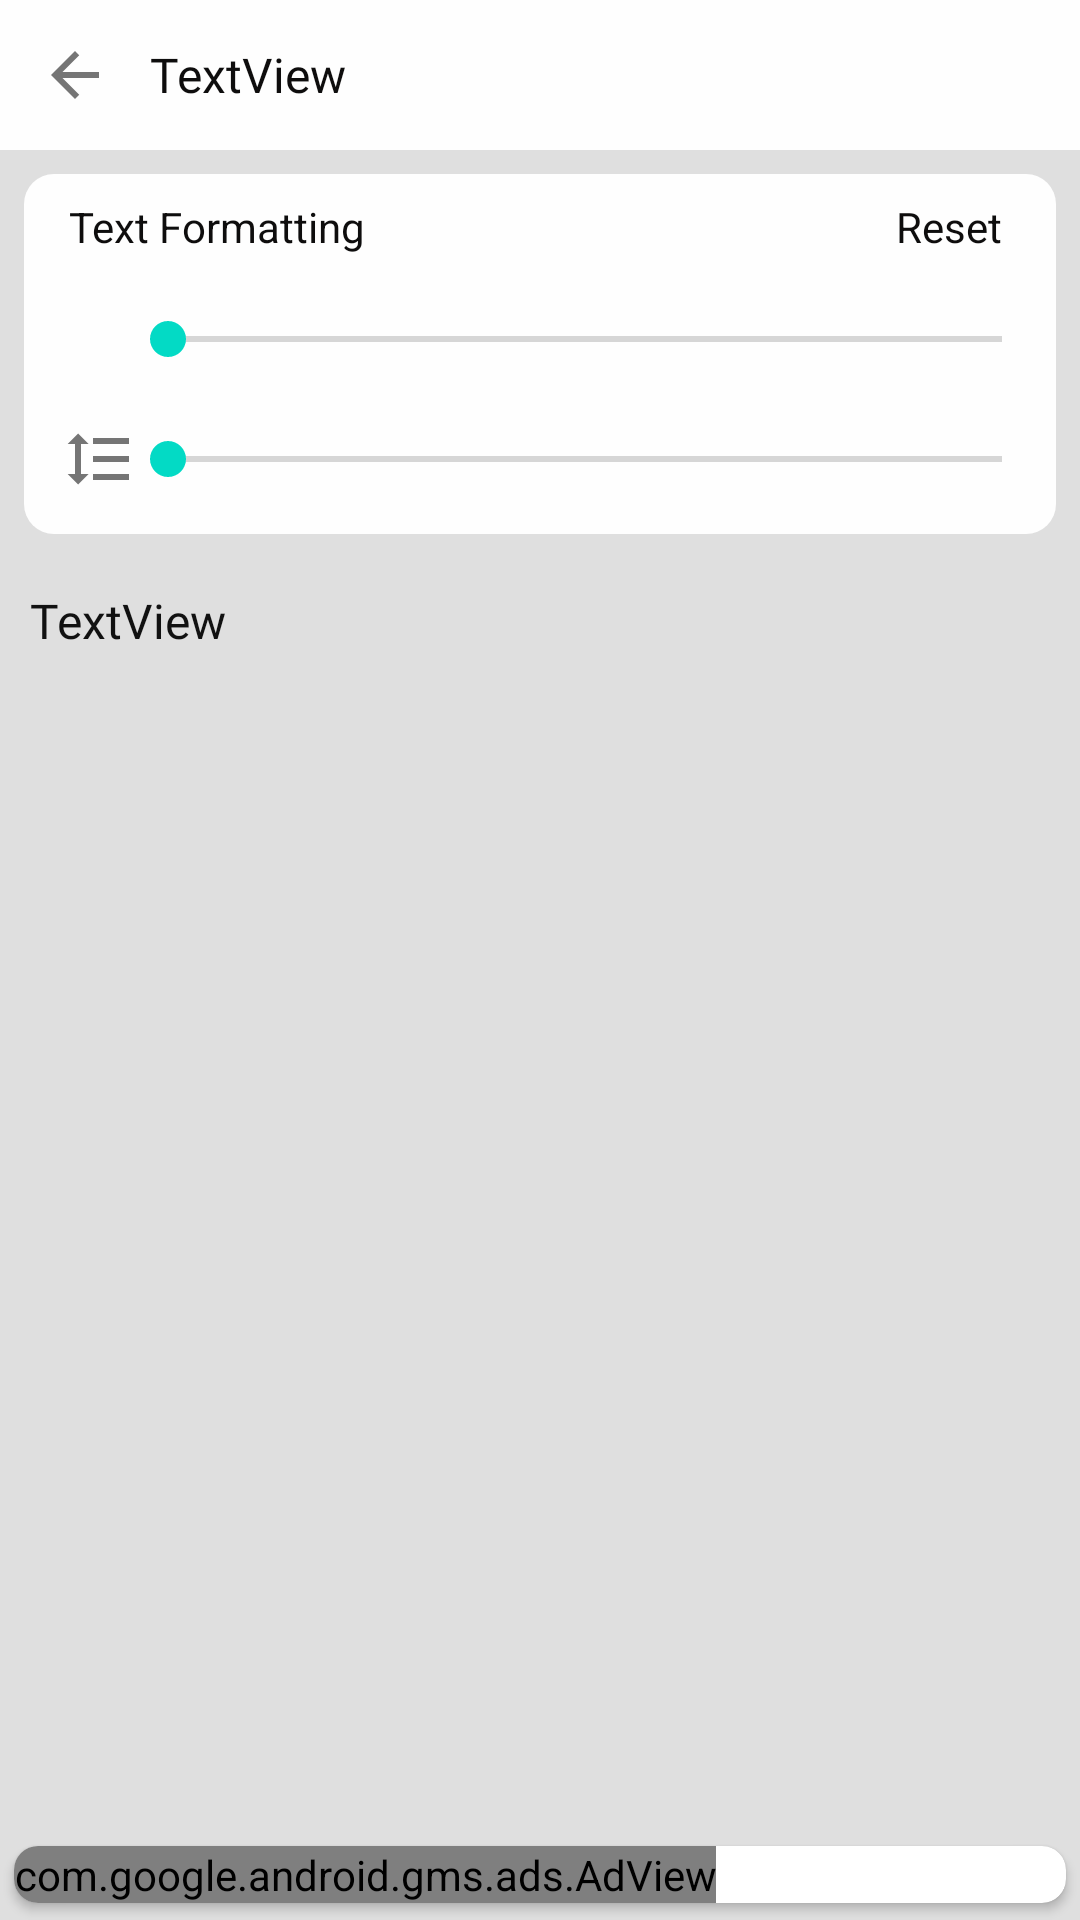

Screen size 1080×1920. Icon name, then its center in pixels as (x,y):
back: (75,75)
line spacing: (98,459)
